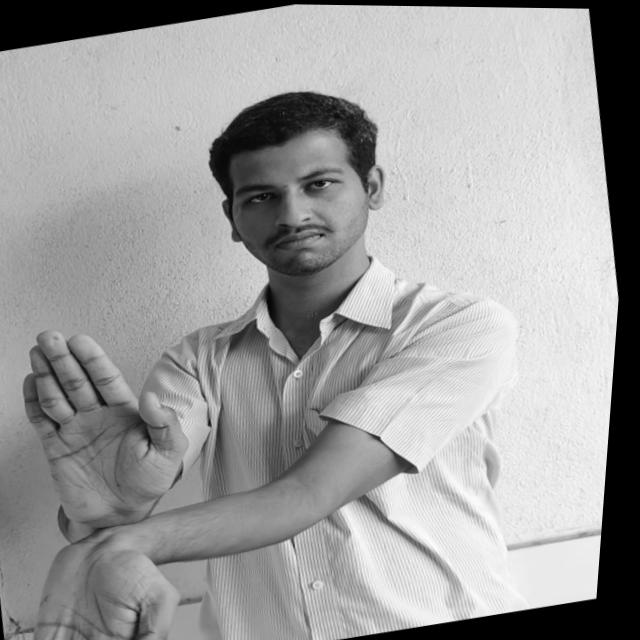Morning: (0, 309, 219, 640)
